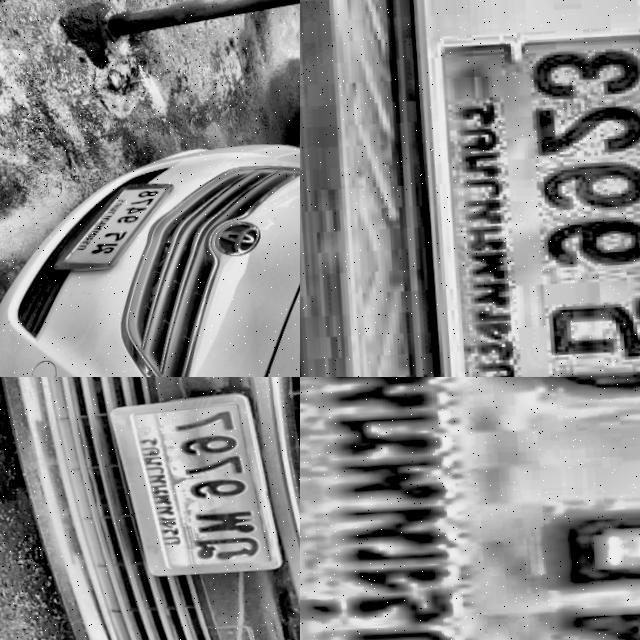license-plate: (366, 0, 640, 377), (300, 377, 640, 640), (97, 396, 280, 586), (37, 182, 175, 279)
